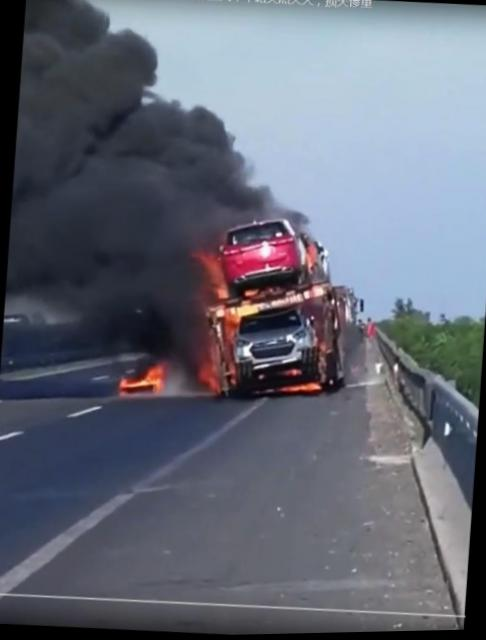fire: (201, 251, 226, 302), (199, 359, 217, 392), (139, 363, 159, 383), (118, 377, 139, 389)
